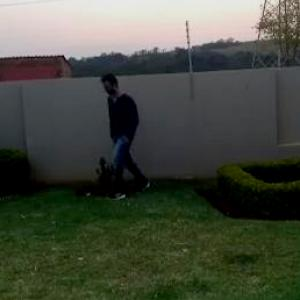follow: (108, 73, 144, 193)
